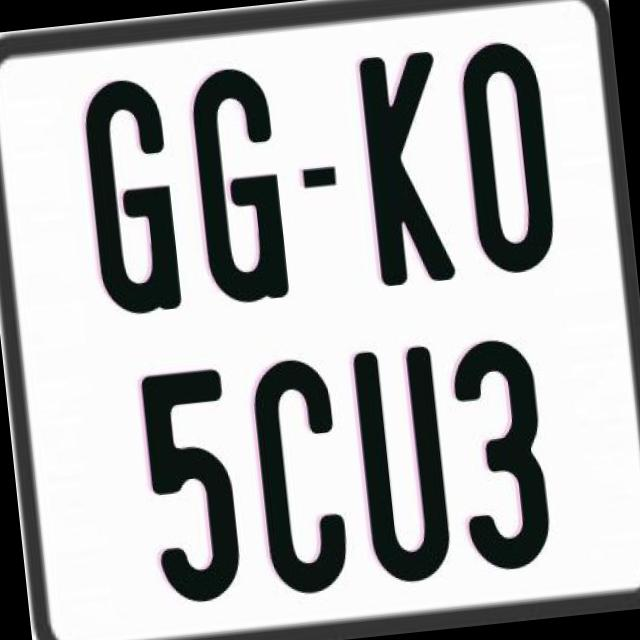0: (452, 34, 560, 276)
3: (446, 335, 552, 581)
5: (135, 364, 243, 606)
C: (247, 356, 357, 600)
G: (188, 61, 298, 303), (79, 72, 183, 316)
K: (354, 49, 460, 293)
U: (350, 342, 460, 584)
